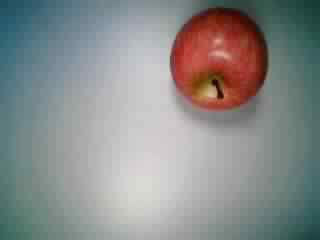apple: (167, 9, 272, 111)
